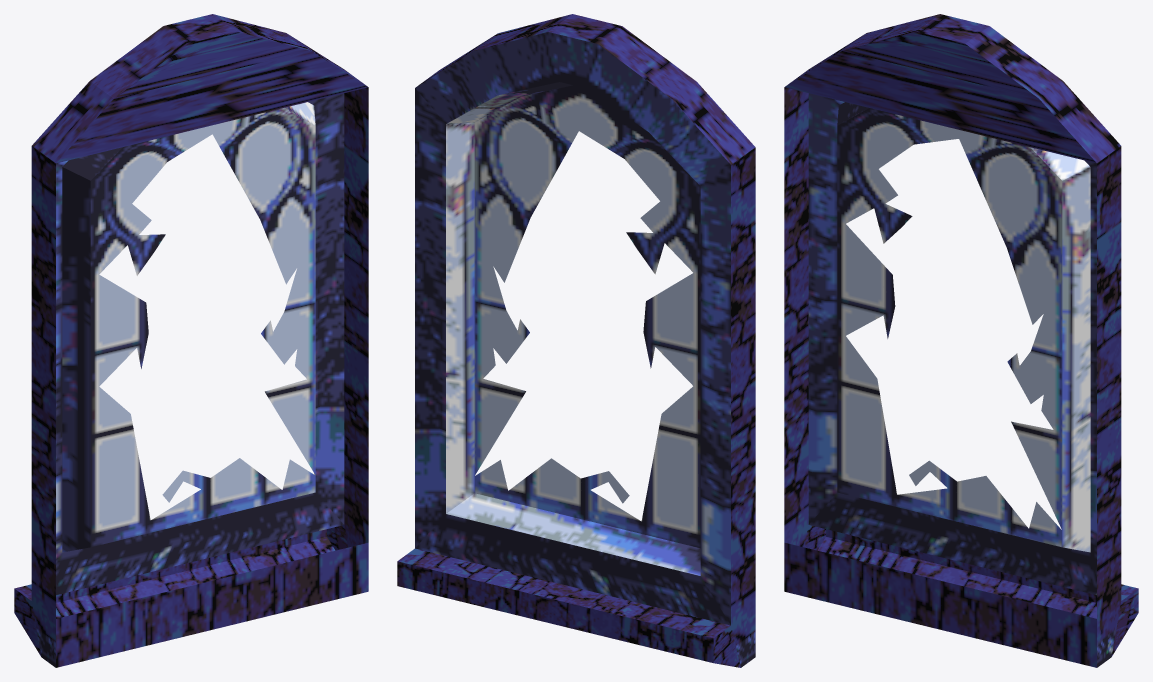
The model's file is window_broken.fbx.
3 views of the same model, side by side, from view 1: azimuth 30°, elevation 25°; view 2: azimuth 150°, elevation 25°; view 3: azimuth 330°, elevation 25° (orthographic).
Visible parts, largest first — view 1: window; view 2: window; view 3: window.
Part boxes in pixels (<box>): window: <box>14,14,368,667</box>; window: <box>397,14,755,667</box>; window: <box>784,14,1138,667</box>.
Size of the model in its own units: 330 by 597 by 75.96.
